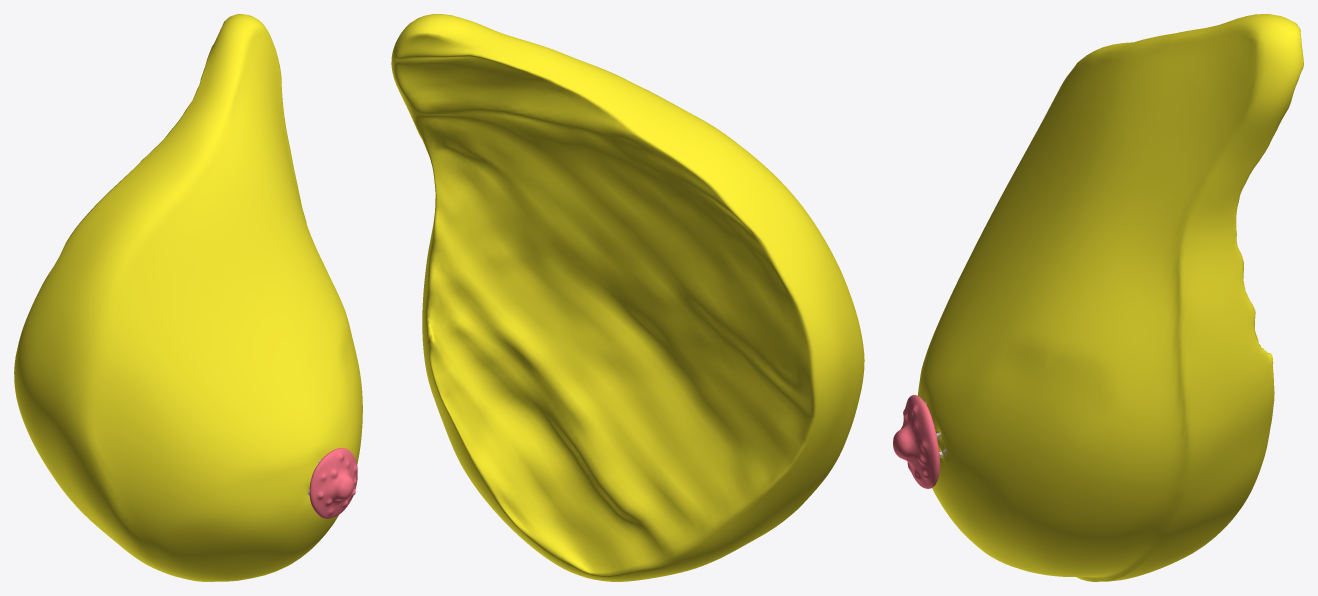
The model's file is density50.glb.
The picture shows the model from 3 angles, left to right: view 1: azimuth 30°, elevation 25°; view 2: azimuth 150°, elevation 25°; view 3: azimuth 270°, elevation 25°; orthographic projection. The views are drawn at different scales.
Visible parts, largest first — view 1: VH_F_fat_L, VH_F_areola_L; view 2: VH_F_fat_L; view 3: VH_F_fat_L, VH_F_areola_L, VH_F_nipple_L.
Part boxes in pixels (x1,y1,x2,y2): VH_F_fat_L: (14,14,362,581); VH_F_areola_L: (309,448,357,518); VH_F_fat_L: (391,14,864,581); VH_F_fat_L: (917,14,1303,581); VH_F_areola_L: (901,395,939,488); VH_F_nipple_L: (893,427,913,464).
Size of the model in its own units: 0.1282 by 0.1819 by 0.1119.
